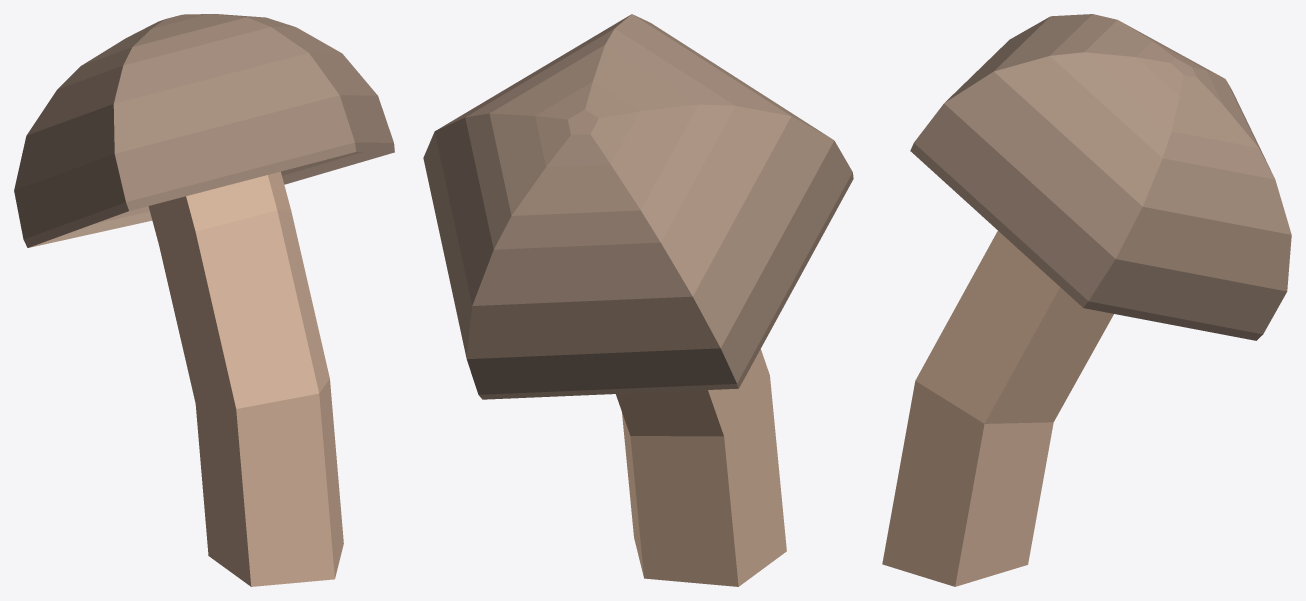
The model's file is Mushroom_06.fbx.
3 views of the same model, side by side, from view 1: azimuth 30°, elevation 25°; view 2: azimuth 150°, elevation 25°; view 3: azimuth 270°, elevation 25° (orthographic). The views are drawn at different scales.
Visible parts, largest first — view 1: Mushroom_06; view 2: Mushroom_06; view 3: Mushroom_06.
Boxes of the visible parts, left/top/right/bottom form: Mushroom_06: left=14, top=14, right=394, bottom=586; Mushroom_06: left=423, top=14, right=853, bottom=586; Mushroom_06: left=882, top=14, right=1291, bottom=586.
Bounding box in the file's own units: 117 × 172 × 124.
